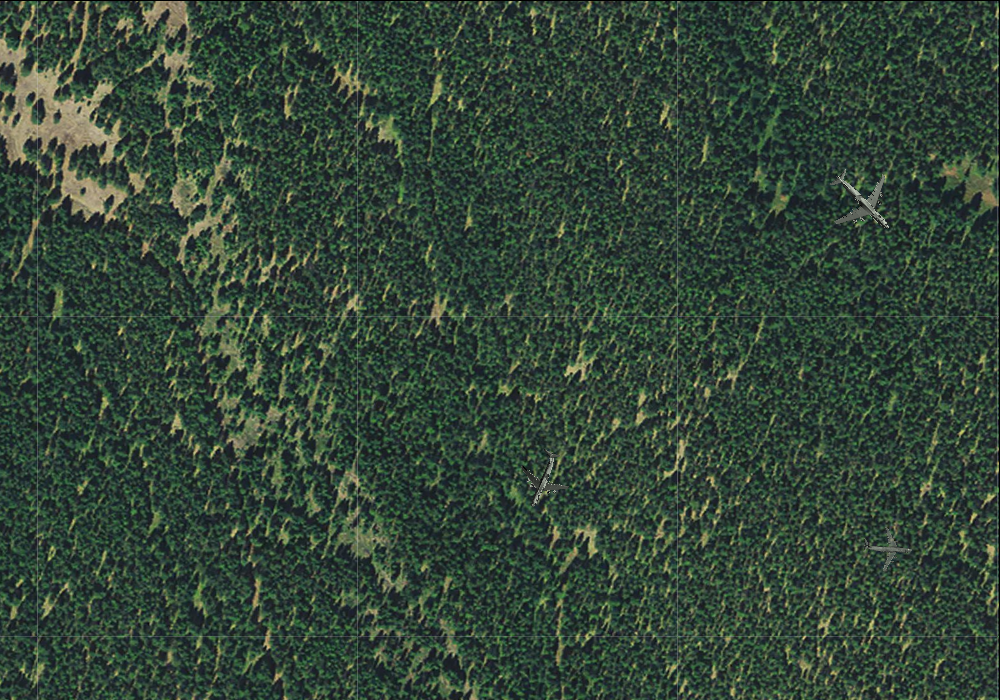plane: (811, 150, 913, 252), (504, 440, 580, 517), (861, 523, 914, 573)
